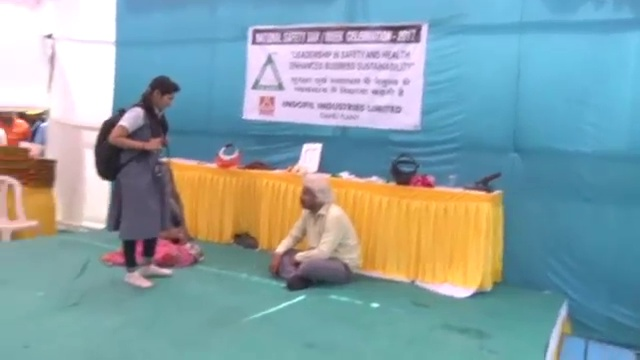helmet_off: (145, 77, 179, 114), (298, 178, 331, 212)
person: (95, 73, 183, 290), (271, 177, 364, 291), (1, 108, 32, 146)
